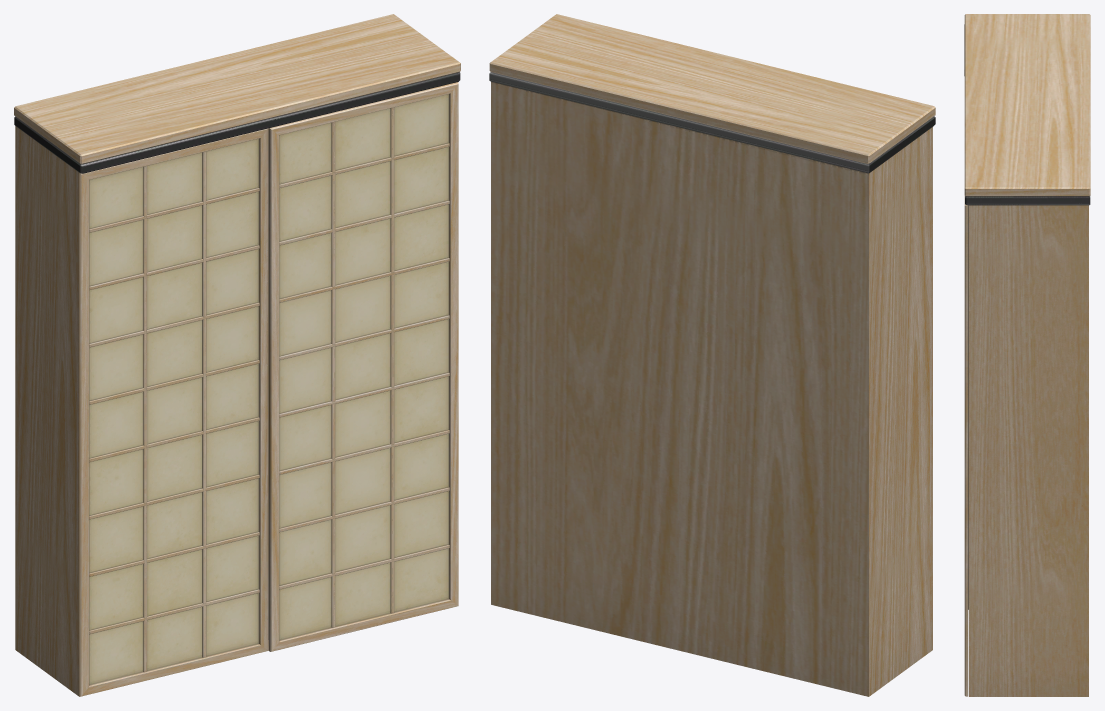
File: Wardrobe1.c.fbx
The picture shows the model from 3 angles, left to right: view 1: azimuth 30°, elevation 25°; view 2: azimuth 150°, elevation 25°; view 3: azimuth 270°, elevation 25°; orthographic projection. The views are drawn at different scales.
Parts seen in each view (by area): view 1: Group 0; view 2: Group 0; view 3: Group 0.
Boxes of the visible parts, x1,y1,x2,y2 form: Group 0: [14, 14, 460, 696]; Group 0: [489, 14, 935, 696]; Group 0: [964, 14, 1090, 696].
Bounding box in the file's own units: 201 × 279 × 61.47.
Materials: 3 (3 with a texture image).
